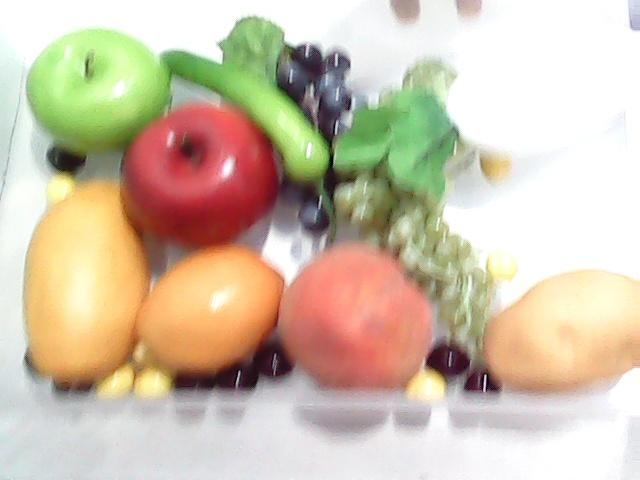apple: (118, 88, 278, 244), (17, 15, 177, 171)
grape: (340, 157, 512, 331), (282, 44, 351, 234)
lemon: (124, 236, 286, 382)
mango: (19, 173, 147, 395)
peach: (290, 240, 442, 392)
pepper: (154, 33, 330, 184)
potato: (482, 266, 640, 410)
radish: (334, 26, 640, 206)
